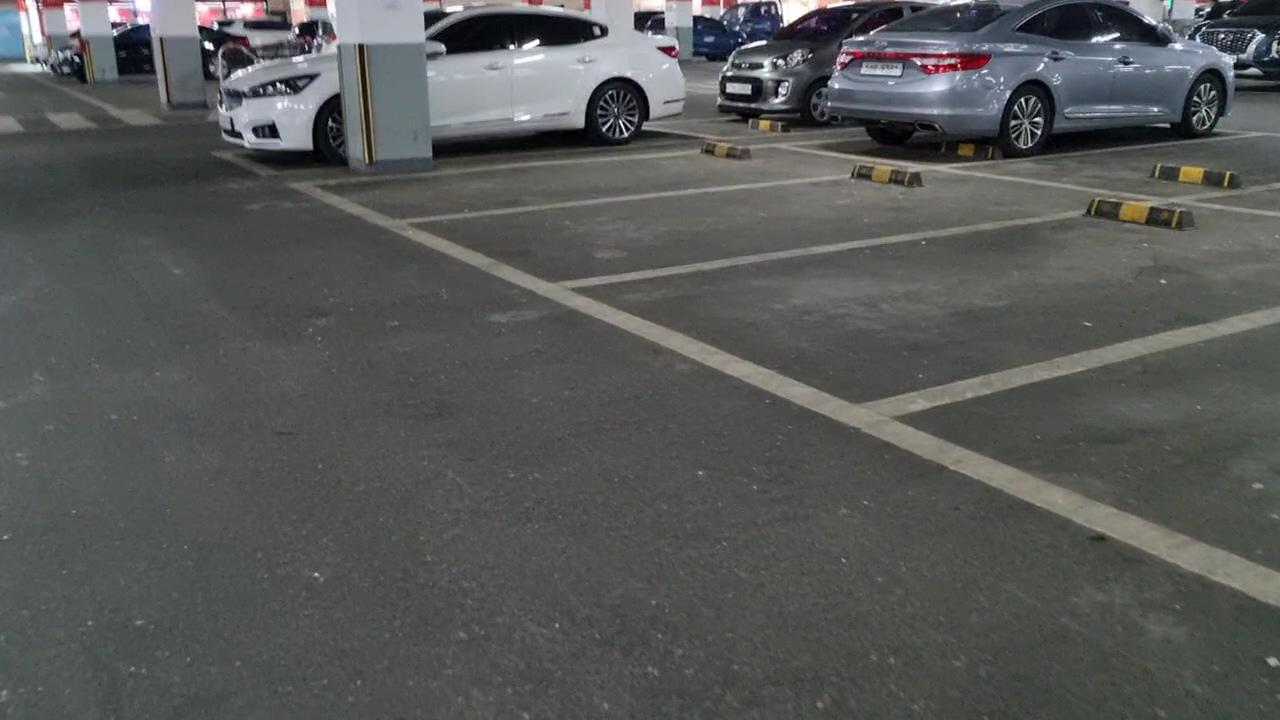empty: (552, 197, 1280, 433), (398, 160, 1105, 288), (290, 141, 866, 231)
occupied: (215, 14, 668, 180)
